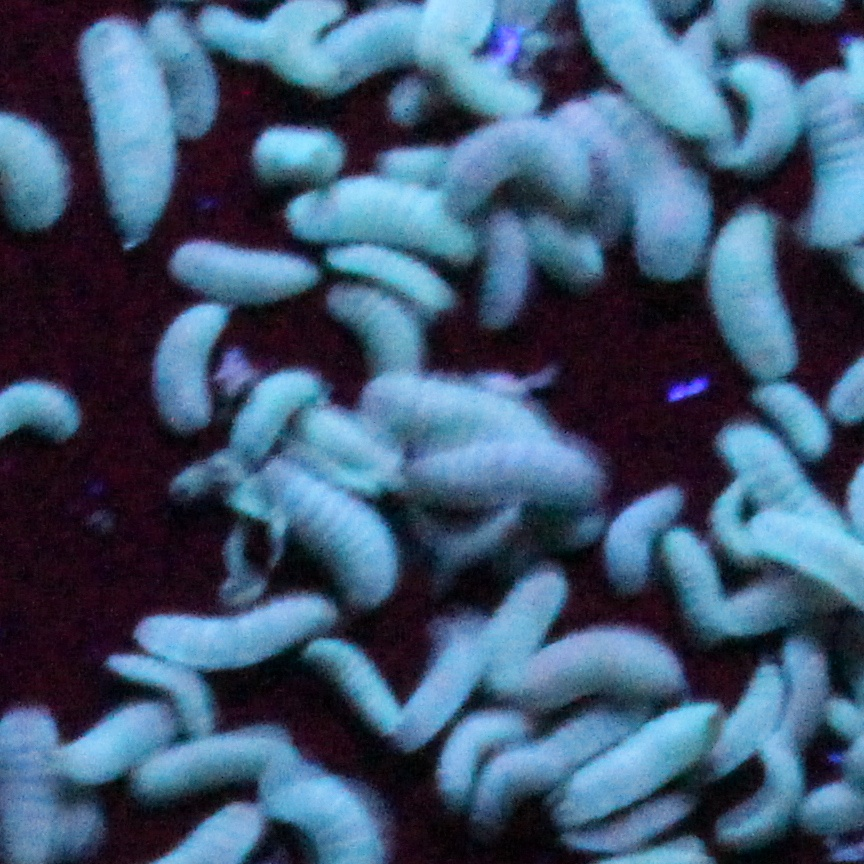larve: (78, 30, 168, 233), (128, 593, 324, 660), (717, 212, 782, 386), (408, 440, 604, 495), (526, 644, 693, 702), (182, 232, 318, 299), (136, 748, 284, 808), (368, 382, 527, 436), (635, 163, 707, 280), (161, 302, 219, 439), (458, 123, 578, 187), (724, 62, 792, 173), (55, 694, 178, 753), (297, 490, 381, 576), (321, 192, 449, 245), (482, 756, 554, 846), (336, 640, 395, 746), (337, 246, 462, 296), (262, 2, 334, 86), (669, 524, 718, 640), (171, 26, 219, 143), (612, 479, 659, 598), (538, 210, 598, 300), (613, 726, 689, 793), (506, 555, 565, 640), (417, 625, 469, 720), (349, 300, 419, 369), (479, 217, 525, 322), (251, 126, 345, 177), (336, 2, 418, 60), (753, 736, 794, 852), (559, 809, 709, 840), (424, 722, 475, 809), (102, 660, 234, 692), (235, 375, 304, 436), (439, 72, 542, 109), (783, 631, 822, 726), (739, 648, 779, 731), (727, 413, 769, 484), (774, 382, 819, 446)
